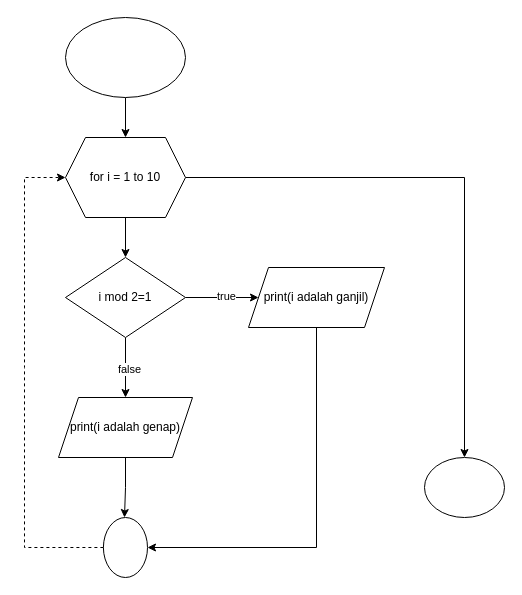
The diagram is 522 pixels wide and 595 high, and some of its shapes have lost their labels. Here are the shapes that lost their labels. From the top down, the centre of each, then its label:
(x=125, y=57): nilai
(x=464, y=487): selesai
